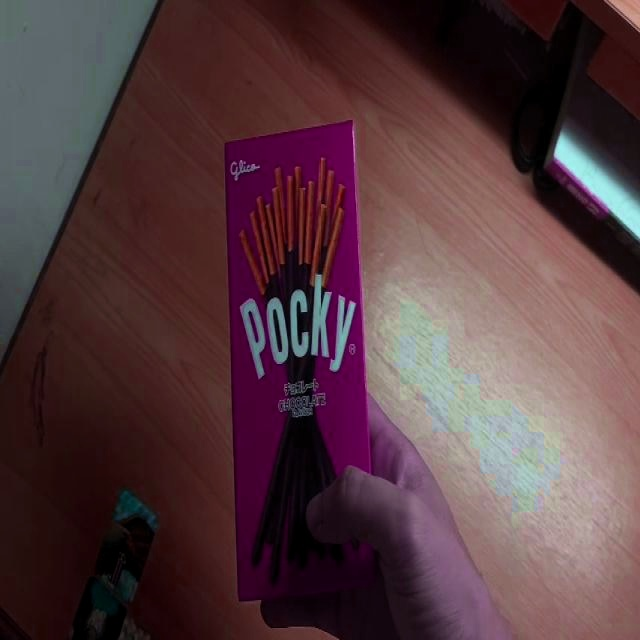Pocky: (222, 113, 376, 605)
